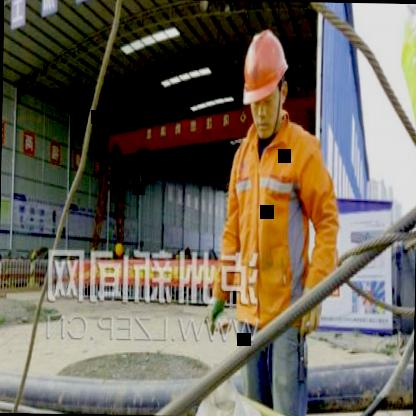helmet: (239, 22, 292, 146)
